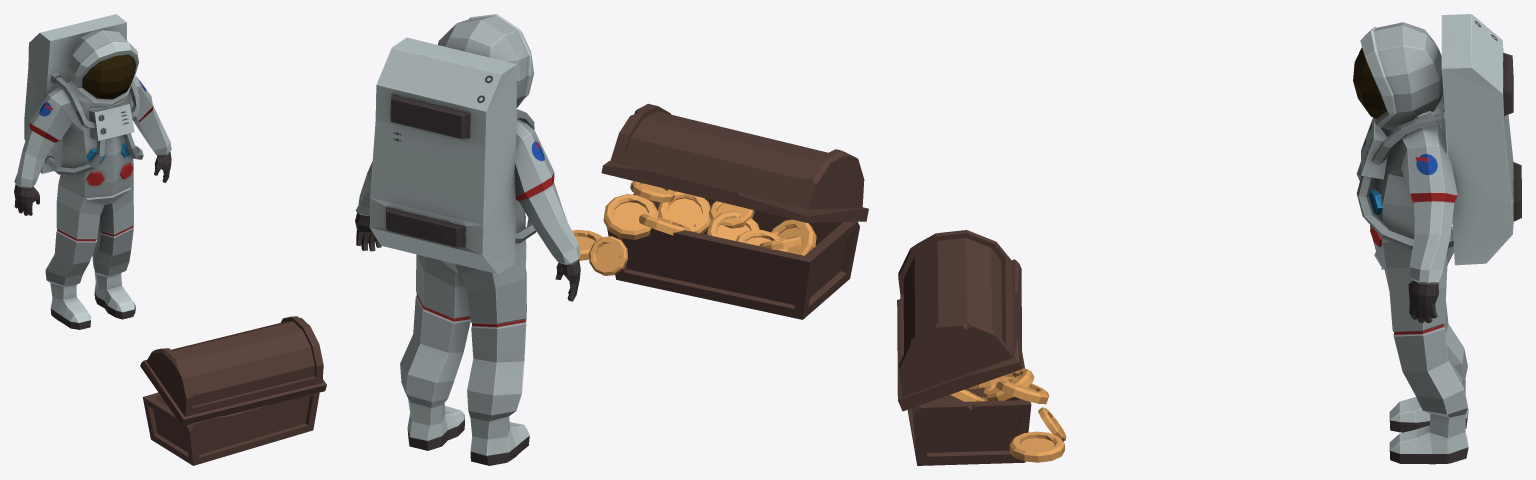
File: moneyAstro.glb
The picture shows the model from 3 angles, left to right: view 1: azimuth 30°, elevation 25°; view 2: azimuth 150°, elevation 25°; view 3: azimuth 270°, elevation 25°; orthographic projection. The views are drawn at different scales.
Visible parts, largest first — view 1: Astronaut_mesh, Plane.007, Plane.006; view 2: Astronaut_mesh, Plane.007, Plane.006, Circle.013, Circle.008, Circle.012, Circle.014, Circle, Circle.006, Circle.004, Circle.015; view 3: Astronaut_mesh, Plane.007, Plane.006, Circle.010, Circle.013, Circle.015.
Part boxes in pixels (x1,y1,x2,y2): Astronaut_mesh: (14, 14, 171, 329); Plane.007: (140, 316, 326, 426); Plane.006: (142, 392, 319, 465); Astronaut_mesh: (355, 14, 580, 465); Plane.007: (601, 103, 868, 222); Plane.006: (607, 191, 859, 319); Circle.013: (603, 194, 658, 239); Circle.008: (657, 191, 710, 233); Circle.012: (589, 236, 627, 275); Circle.014: (771, 219, 816, 255); Circle: (706, 211, 759, 240); Circle.006: (708, 201, 754, 228); Circle.004: (630, 181, 675, 202); Circle.015: (639, 213, 690, 235); Astronaut_mesh: (1353, 14, 1521, 464); Plane.007: (897, 230, 1022, 411); Plane.006: (907, 353, 1031, 465); Circle.010: (1009, 431, 1064, 462); Circle.013: (995, 376, 1049, 404); Circle.015: (982, 368, 1034, 401).
Bounding box in the file's own units: 2.5 × 4.03 × 5.48.
3 materials, 1 textured.
